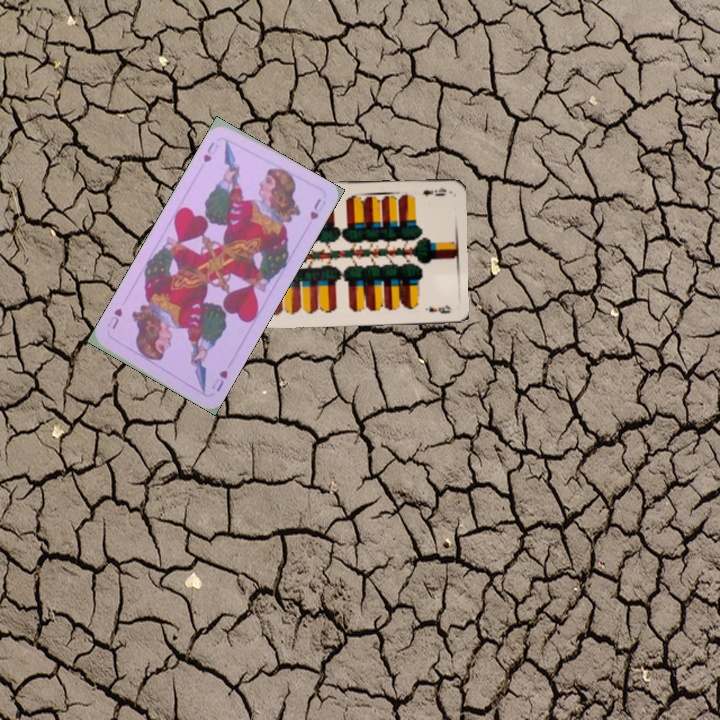E9: (419, 184, 449, 199)
HU: (207, 366, 230, 394), (199, 138, 222, 165)
